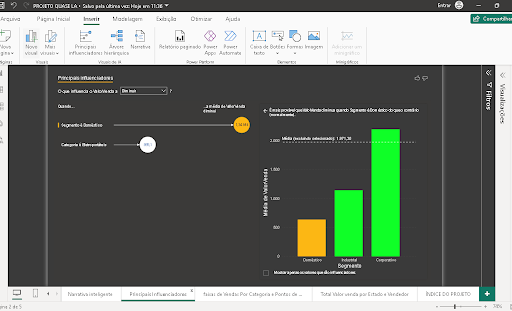

What the dashboard file says about the page in this screenshot:
{"tool":"powerbi","page":{"name":"Principais Influenciadores","canvas":[1280,720],"ordinal":2},"visuals":[{"type":"keyDriversVisual","fields":{"Target":["Vendas.ValorVenda"],"ExplainBy":["Vendas.Segmento","Vendas.Categoria"]},"box":[16.2,20.3,1232.9,688.9],"z":0}]}

Visuals, with their boxes in screenshot pixels (x1, y1, x2, y2):
keyDriversVisual - Vendas.ValorVenda x Vendas.Segmento: left=6, top=12, right=493, bottom=284
